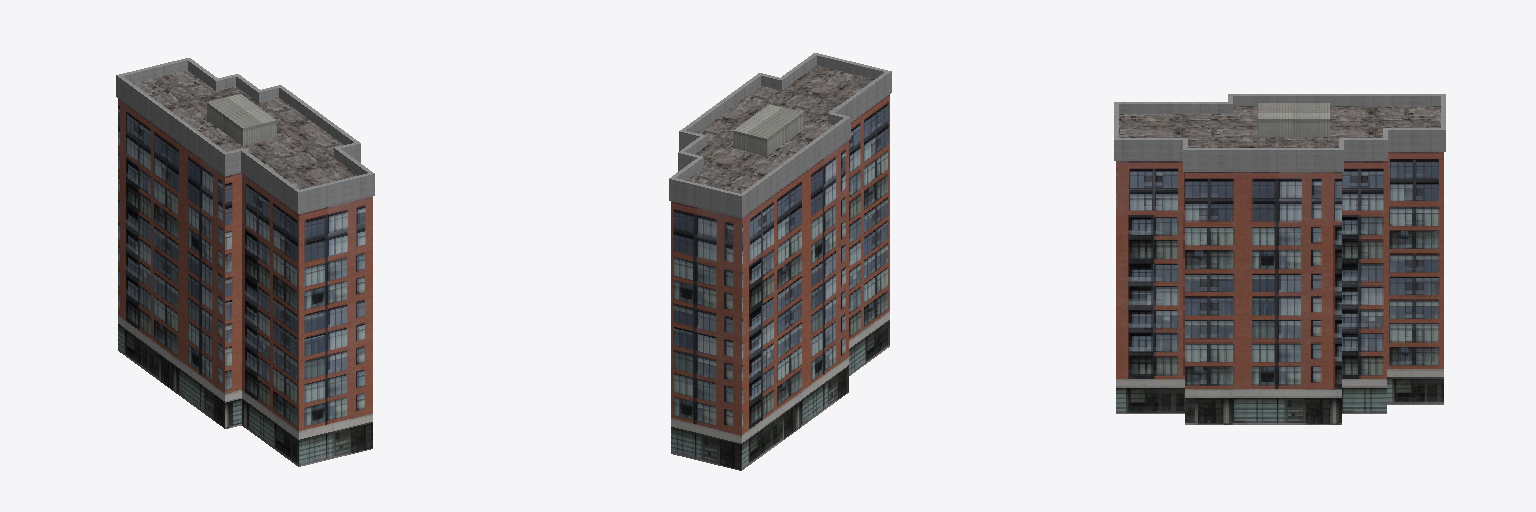
3 renders of one model, left to right at view 1: azimuth 30°, elevation 25°; view 2: azimuth 150°, elevation 25°; view 3: azimuth 270°, elevation 25°, orthographic.
Visible parts, largest first — view 1: building_18; view 2: building_18; view 3: building_18.
Part boxes in pixels (x1,y1,x2,y2): building_18: (116, 58, 374, 466); building_18: (669, 53, 891, 470); building_18: (1114, 94, 1445, 424).
Bounding box in the file's own units: 54.58 × 130 × 138.
Materials: 1 (1 with a texture image).